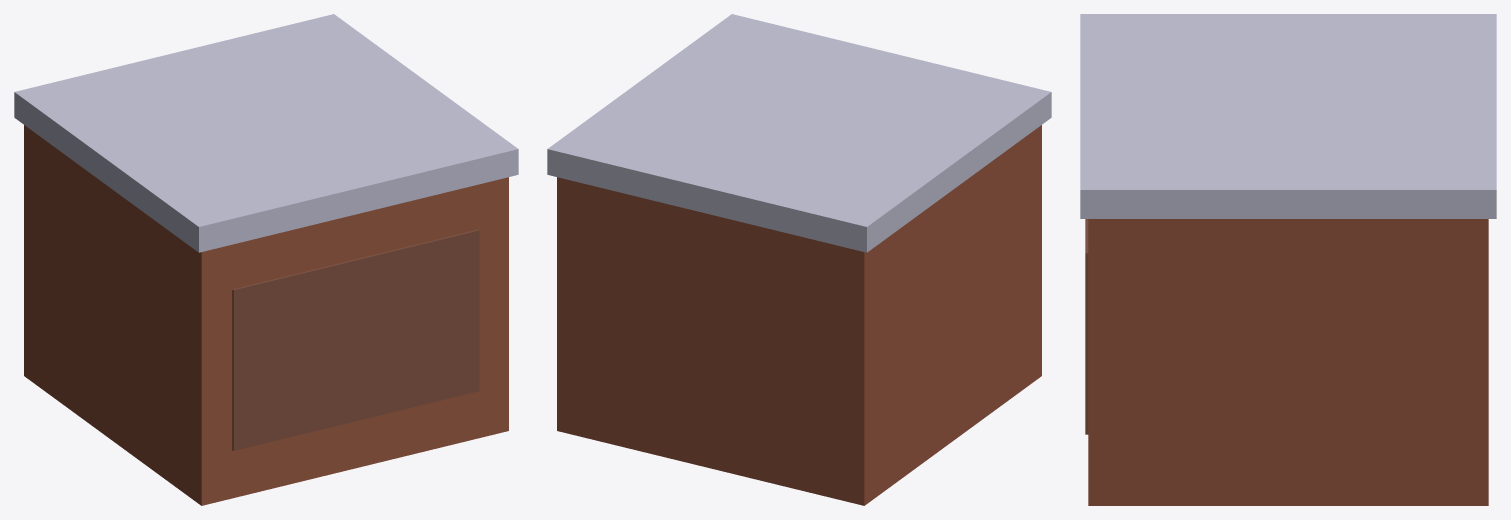
File: counter.glb
The picture shows the model from 3 angles, left to right: view 1: azimuth 30°, elevation 25°; view 2: azimuth 150°, elevation 25°; view 3: azimuth 270°, elevation 25°; orthographic projection. The views are drawn at different scales.
Visible parts, largest first — view 1: counter; view 2: counter; view 3: counter.
Boxes of the visible parts, x1=… form: counter: x1=14, y1=14, x2=518, y2=505; counter: x1=547, y1=14, x2=1051, y2=505; counter: x1=1080, y1=14, x2=1496, y2=505.
Size of the model in its own units: 1.04 by 0.88 by 1.04.
Materials: 1 (1 with a texture image).
